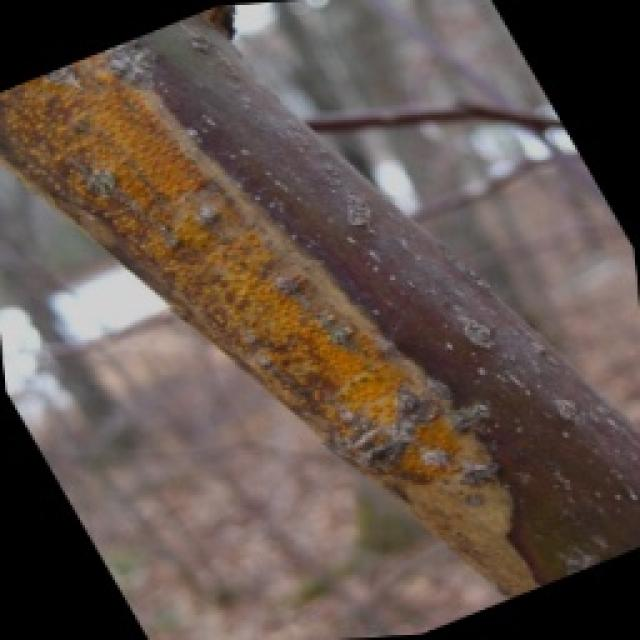Golden_canker: (0, 40, 640, 619)
